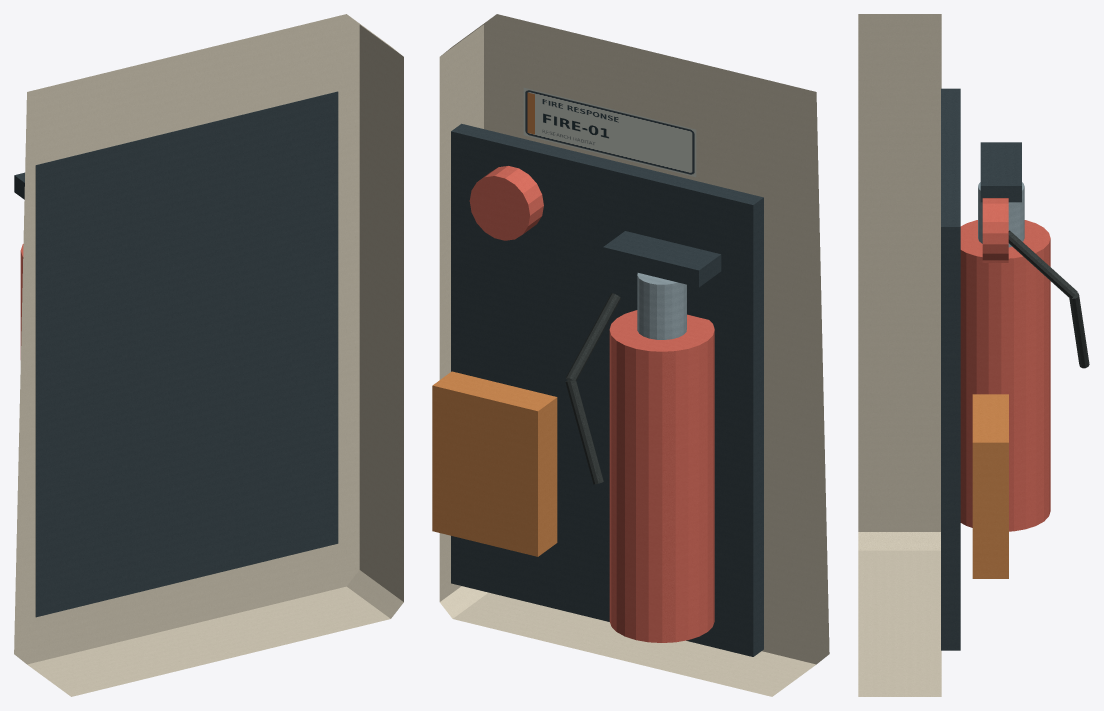
The model's file is fire_safety_station.glb.
3 views of the same model, side by side, from view 1: azimuth 30°, elevation 25°; view 2: azimuth 150°, elevation 25°; view 3: azimuth 270°, elevation 25° (orthographic). The views are drawn at different scales.
Visible parts, largest first — view 1: Recess__graphite, Wall_Station__cream; view 2: Recess__graphite, Wall_Station__cream, Extinguisher__red, Safety_Gloves__amber, static__label_FIRE-01, Alarm__red, Extinguisher_Trigger__graphite, Extinguisher__alloy, Extinguisher_Hose__rubber; view 3: Wall_Station__cream, Extinguisher__red, Recess__graphite, Safety_Gloves__amber, Extinguisher_Trigger__graphite, Extinguisher_Hose__rubber, Alarm__red, Extinguisher__alloy.
Part boxes in pixels (box(x1,y1,x2,y2)): Recess__graphite: box(35, 91, 338, 617); Wall_Station__cream: box(14, 14, 403, 696); Recess__graphite: box(451, 123, 763, 656); Wall_Station__cream: box(439, 14, 829, 696); Extinguisher__red: box(609, 310, 714, 642); Safety_Gloves__amber: box(432, 371, 557, 556); static__label_FIRE-01: box(523, 87, 696, 177); Alarm__red: box(469, 166, 543, 240); Extinguisher_Trigger__graphite: box(603, 231, 721, 287); Extinguisher__alloy: box(637, 273, 686, 339); Extinguisher_Hose__rubber: box(565, 293, 620, 484); Wall_Station__cream: box(858, 14, 941, 696); Extinguisher__red: box(960, 220, 1050, 531); Recess__graphite: box(941, 88, 960, 650); Safety_Gloves__amber: box(972, 394, 1008, 578); Extinguisher_Trigger__graphite: box(980, 142, 1021, 202); Extinguisher_Hose__rubber: box(1008, 230, 1089, 368); Alarm__red: box(982, 198, 1008, 262); Extinguisher__alloy: box(978, 182, 1024, 247).
Bounding box in the file's own units: 0.72 × 1.14 × 0.4449.
7 materials, 7 textured.
